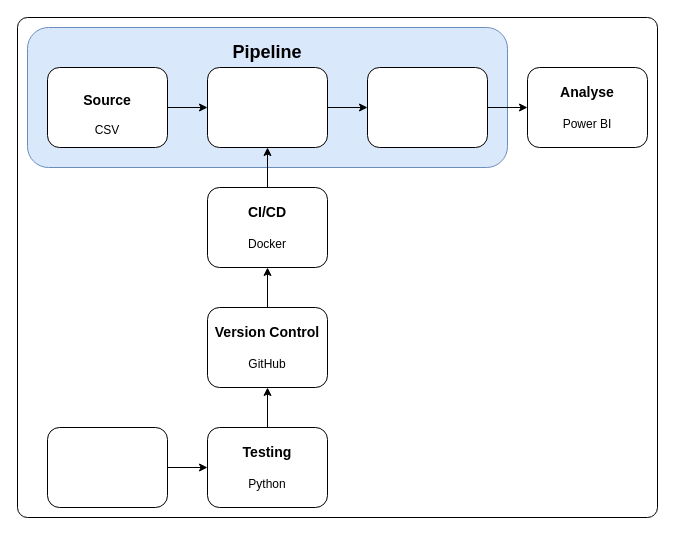
The diagram is 675 pixels wide and 535 high, and some of its shapes have lost their labels. Each missing label, with the box of its shape:
Destination SQL: (366, 66, 488, 148)
Source Code Python: (46, 426, 168, 508)
Transform Python application: (206, 66, 328, 148)
